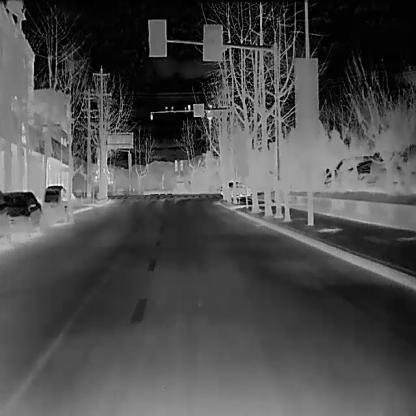car: (2, 188, 44, 239), (41, 184, 70, 225), (221, 181, 251, 199)
